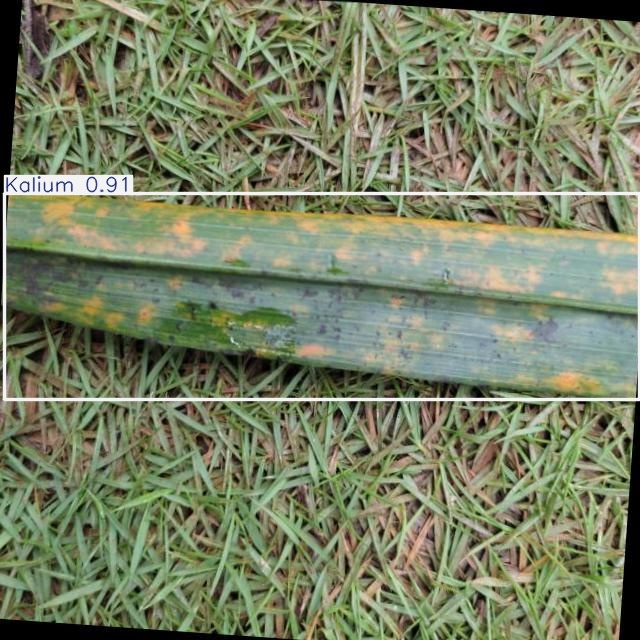Kalium: (5, 193, 640, 400)
